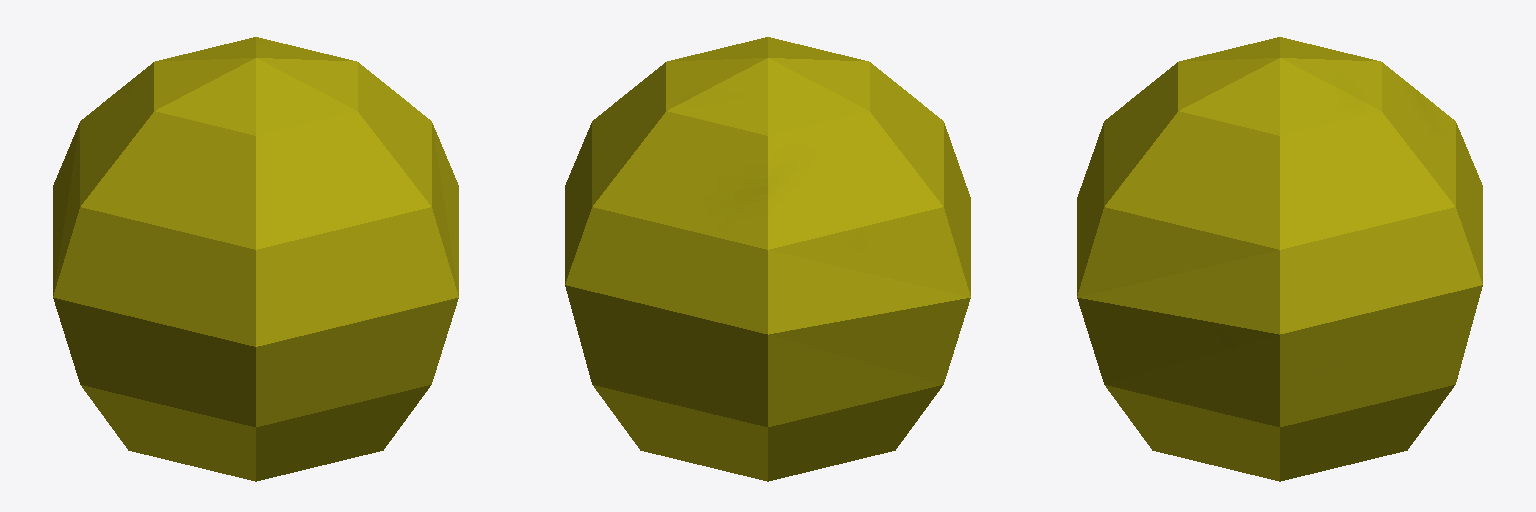
3 renders of one model, left to right at view 1: azimuth 30°, elevation 25°; view 2: azimuth 150°, elevation 25°; view 3: azimuth 270°, elevation 25°, orthographic.
Parts seen in each view (by area): view 1: Sphere; view 2: Sphere; view 3: Sphere.
Boxes of the visible parts, box(x1,y1,x2,y2) form: Sphere: box(53, 37, 458, 481); Sphere: box(565, 37, 970, 481); Sphere: box(1077, 37, 1482, 481).
Bounding box in the file's own units: 2 × 1.86 × 1.73.
Materials: 1 (1 with a texture image).